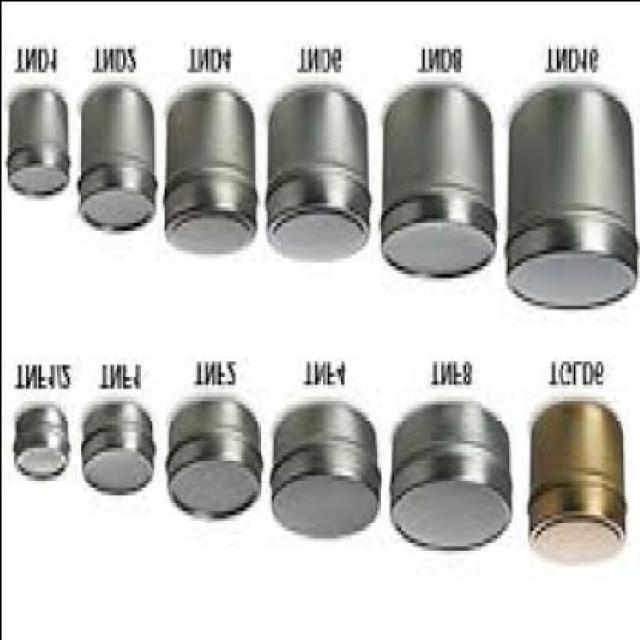METAL: (502, 83, 636, 312), (378, 90, 492, 284), (386, 403, 509, 557), (262, 94, 368, 260), (266, 403, 379, 542), (160, 92, 252, 260), (526, 404, 623, 561), (161, 402, 261, 526), (74, 87, 155, 238), (2, 90, 68, 202), (78, 402, 153, 498), (8, 407, 66, 482)
